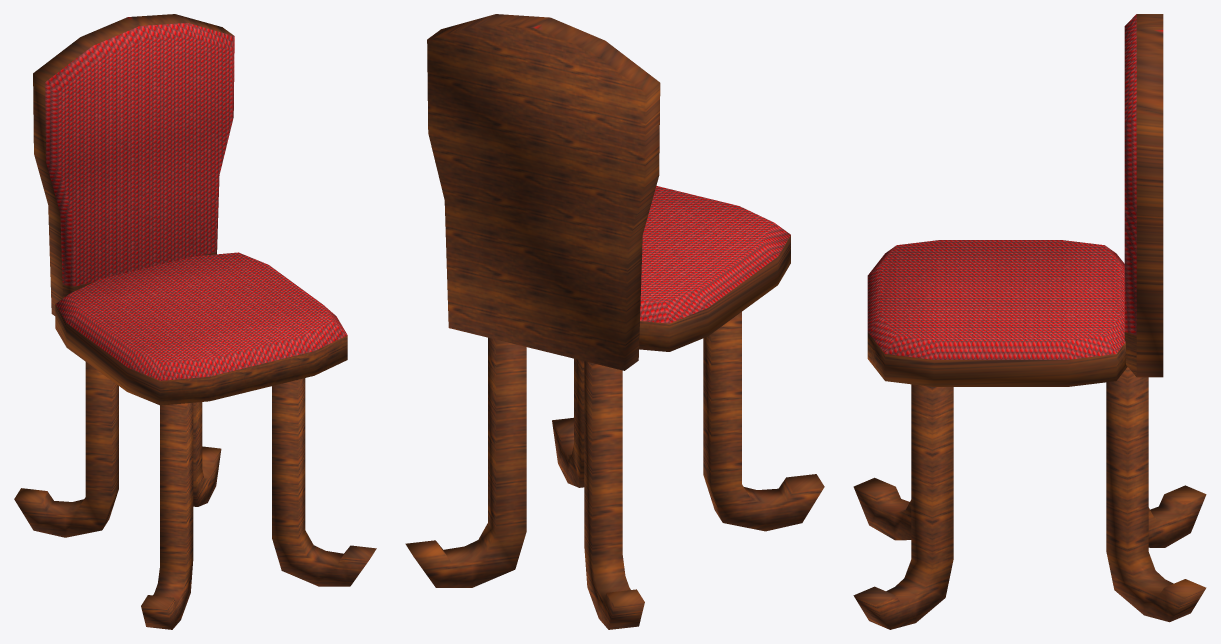
Rendered from Chair1.fbx.
3 views of the same model, side by side, from view 1: azimuth 30°, elevation 25°; view 2: azimuth 150°, elevation 25°; view 3: azimuth 270°, elevation 25° (orthographic). The views are drawn at different scales.
Visible parts, largest first — view 1: obj1, obj2, obj4; view 2: obj1, obj4, obj2; view 3: obj2, obj4, obj1.
Boxes of the visible parts, left/top/right/bottom form: obj1: left=33, top=14, right=234, bottom=315; obj2: left=55, top=252, right=347, bottom=405; obj4: left=14, top=362, right=376, bottom=629; obj1: left=427, top=14, right=660, bottom=370; obj4: left=405, top=312, right=824, bottom=629; obj2: left=639, top=186, right=790, bottom=351; obj2: left=867, top=240, right=1127, bottom=386; obj4: left=853, top=367, right=1206, bottom=629; obj1: left=1124, top=14, right=1163, bottom=377.
Size of the model in its own units: 225 by 454 by 265.
Materials: 1 (1 with a texture image).
